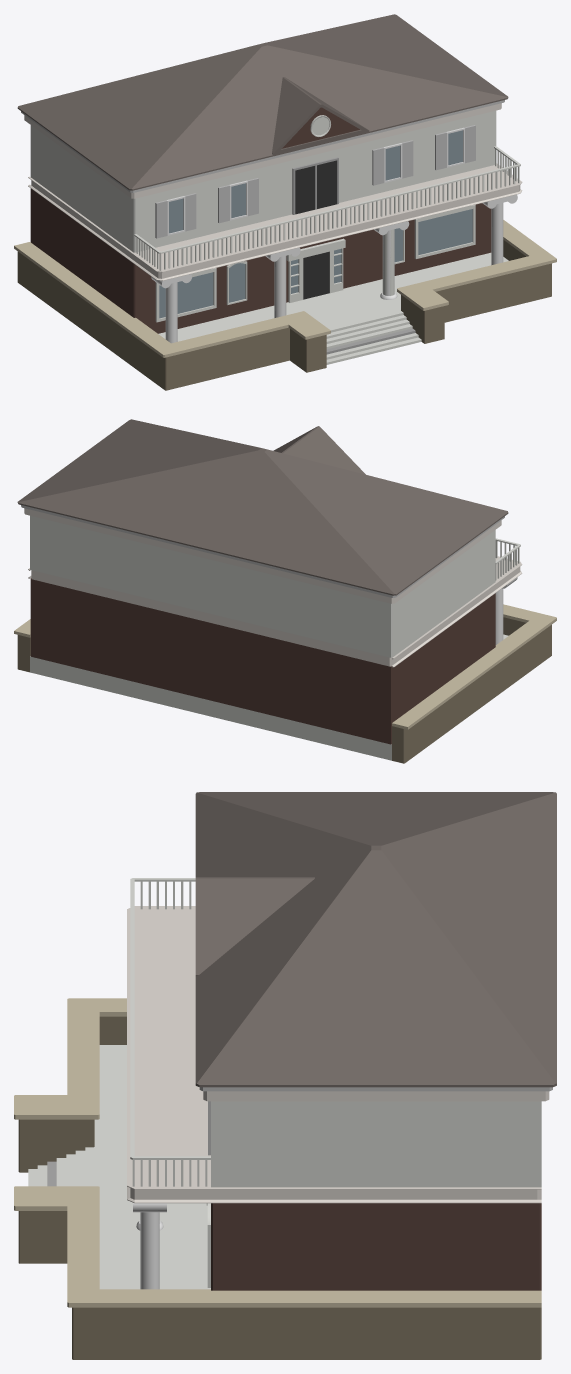
File: FratHouse_1_Textured.fbx
The picture shows the model from 3 angles, top to bottom: view 1: azimuth 30°, elevation 25°; view 2: azimuth 150°, elevation 25°; view 3: azimuth 270°, elevation 25°; orthographic projection. The views are drawn at different scales.
Visible parts, largest first — view 1: pCube243, pCube14, pCube2, pCube3, pCube1, pCube67, pCube66, pCube244, pCube64, pCube240, pCube110, pCube94 (×2) (+34 smaller); view 2: pCube243, pCube2, pCube14, pCube1, pCube67, pCube3, pCube240, pCube110, pCube244, pCube241, pCube105, pCube103 (+3 smaller); view 3: pCube243, pCube2, pCube14, pCube69, pCube3, pCube1, pCube244, pCube109, pCube240, pCube107, pCube103, pCube65 (+11 smaller).
Part boxes in pixels (left/top/right/bottom): pCube243: left=17, top=14, right=508, bottom=190; pCube14: left=30, top=110, right=496, bottom=252; pCube2: left=30, top=188, right=491, bottom=333; pCube3: left=31, top=165, right=520, bottom=278; pCube1: left=158, top=252, right=508, bottom=341; pCube67: left=17, top=251, right=177, bottom=390; pCube66: left=178, top=327, right=289, bottom=387; pCube244: left=272, top=77, right=369, bottom=154; pCube64: left=435, top=266, right=539, bottom=322; pCube240: left=24, top=103, right=501, bottom=198; pCube110: left=14, top=242, right=133, bottom=324; pCube94 (×2): left=162, top=184, right=520, bottom=280; pCube243: left=17, top=419, right=508, bottom=595; pCube2: left=30, top=578, right=495, bottom=744; pCube14: left=30, top=515, right=495, bottom=657; pCube1: left=30, top=634, right=508, bottom=760; pCube67: left=392, top=624, right=551, bottom=763; pCube3: left=31, top=557, right=520, bottom=666; pCube240: left=24, top=508, right=501, bottom=603; pCube110: left=392, top=647, right=511, bottom=729; pCube244: left=273, top=426, right=365, bottom=474; pCube241: left=21, top=505, right=504, bottom=597; pCube105: left=495, top=620, right=547, bottom=653; pCube103: left=503, top=604, right=556, bottom=627; pCube243: left=195, top=792, right=556, bottom=1087; pCube2: left=211, top=1203, right=541, bottom=1290; pCube14: left=211, top=1101, right=541, bottom=1187; pCube69: left=72, top=1307, right=541, bottom=1359; pCube3: left=130, top=907, right=541, bottom=1199; pCube1: left=94, top=1045, right=210, bottom=1289; pCube244: left=195, top=877, right=314, bottom=976; pCube109: left=211, top=1290, right=541, bottom=1307; pCube240: left=203, top=1091, right=549, bottom=1101; pCube107: left=67, top=1206, right=99, bottom=1307; pCube103: left=67, top=998, right=99, bottom=1094; pCube65: left=18, top=1119, right=94, bottom=1172.
Bounding box in the file's own units: 70.64 × 39.17 × 53.23.
